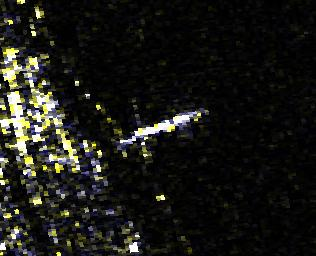ship: (132, 107, 204, 139)
